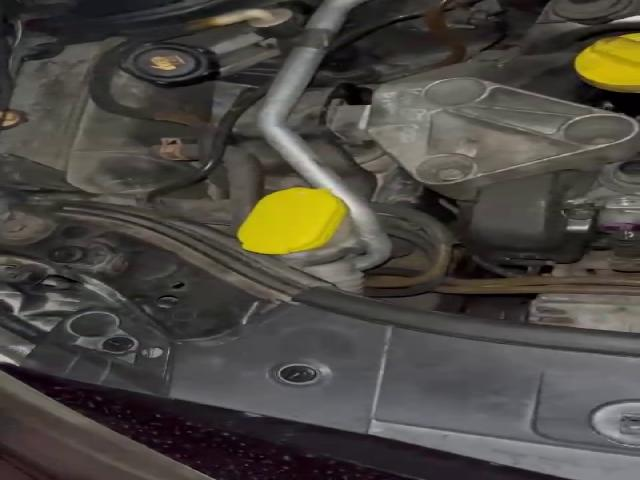antifreeze_tank: (2, 38, 219, 193)
